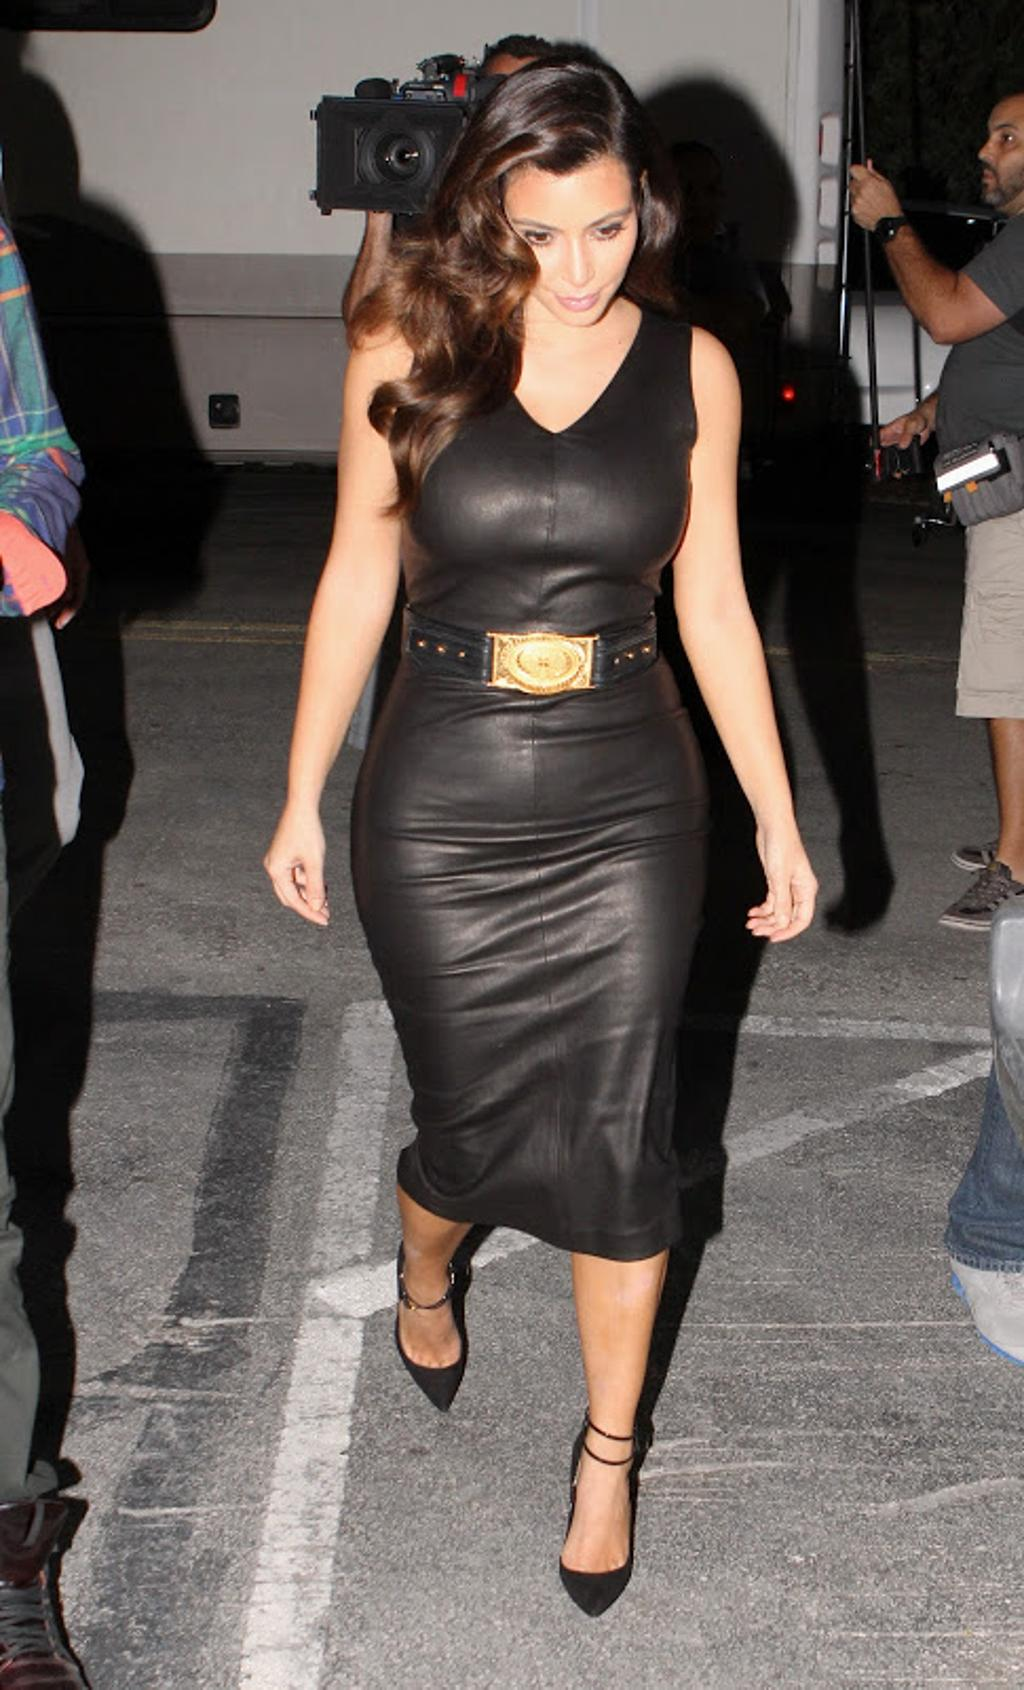face: (486, 142, 638, 324), (974, 92, 1024, 208)
